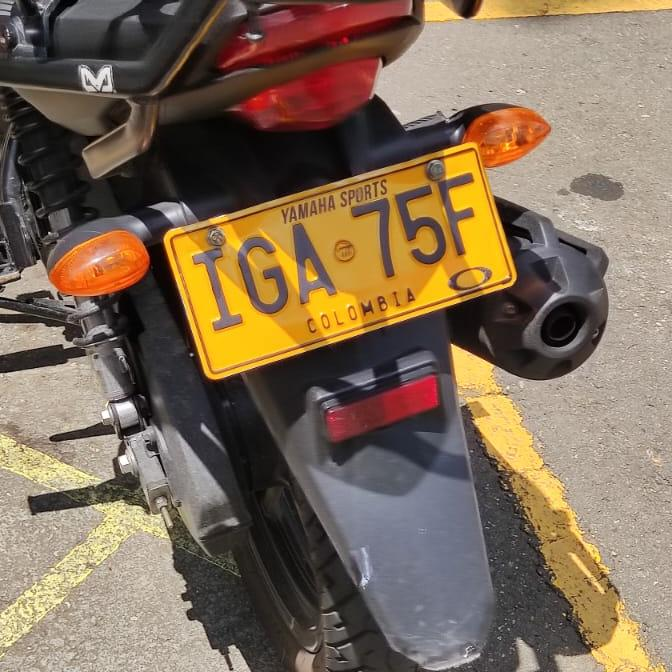plates: (165, 143, 518, 380)
